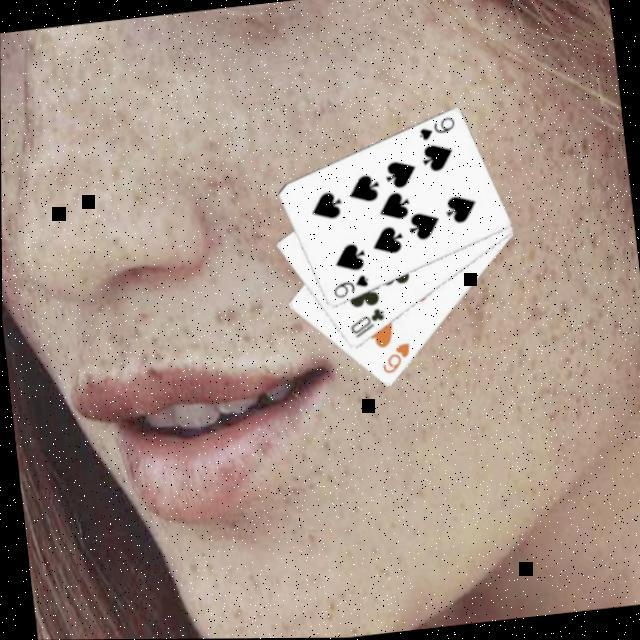10C: (342, 304, 387, 341)
6H: (374, 338, 411, 375)
9S: (412, 112, 457, 142), (326, 270, 370, 300)
